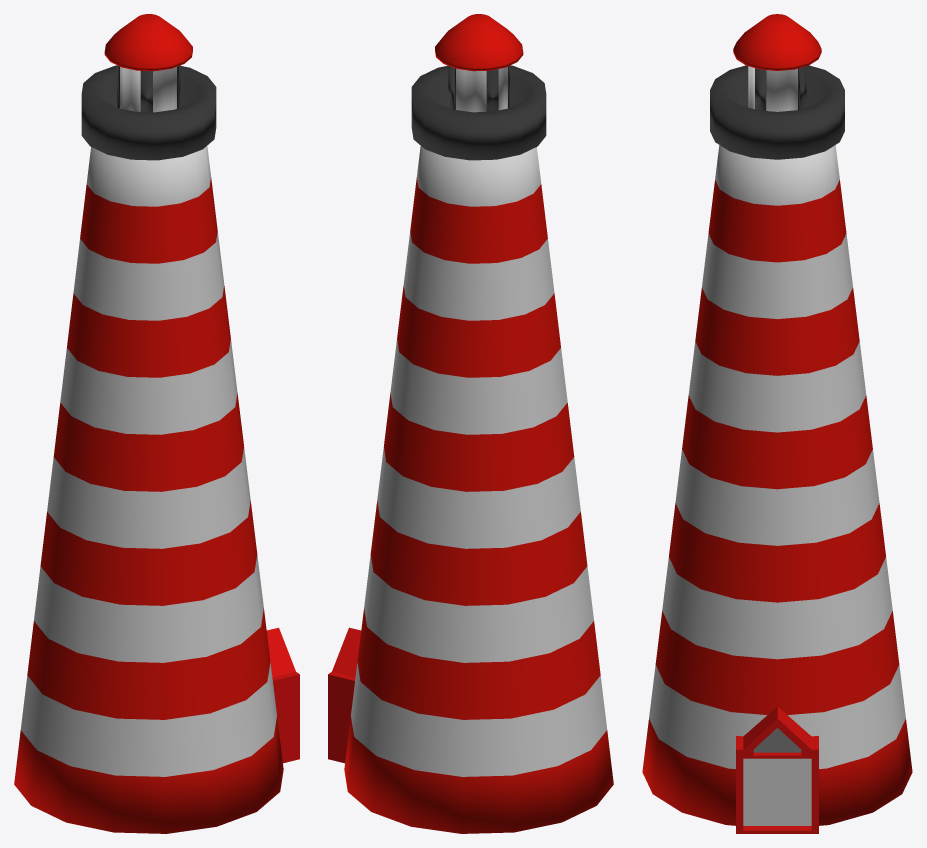
File: Leuchtturm.fbx
3 views of the same model, side by side, from view 1: azimuth 30°, elevation 25°; view 2: azimuth 150°, elevation 25°; view 3: azimuth 270°, elevation 25° (orthographic).
Parts seen in each view (by area): view 1: Leuchtturm, Leuchtturmkopf, LeuchtTür; view 2: Leuchtturm, Leuchtturmkopf, LeuchtTür; view 3: Leuchtturm, Leuchtturmkopf, LeuchtTür.
Part boxes in pixels (x1,y1,x2,y2): Leuchtturm: [14, 146, 283, 833]; Leuchtturmkopf: [81, 14, 216, 160]; LeuchtTür: [266, 627, 299, 763]; Leuchtturm: [344, 146, 613, 833]; Leuchtturmkopf: [411, 14, 546, 160]; LeuchtTür: [328, 627, 361, 763]; Leuchtturm: [642, 145, 912, 825]; Leuchtturmkopf: [710, 14, 844, 159]; LeuchtTür: [736, 706, 818, 833].
Bounding box in the file's own units: 210 × 615 × 200.
